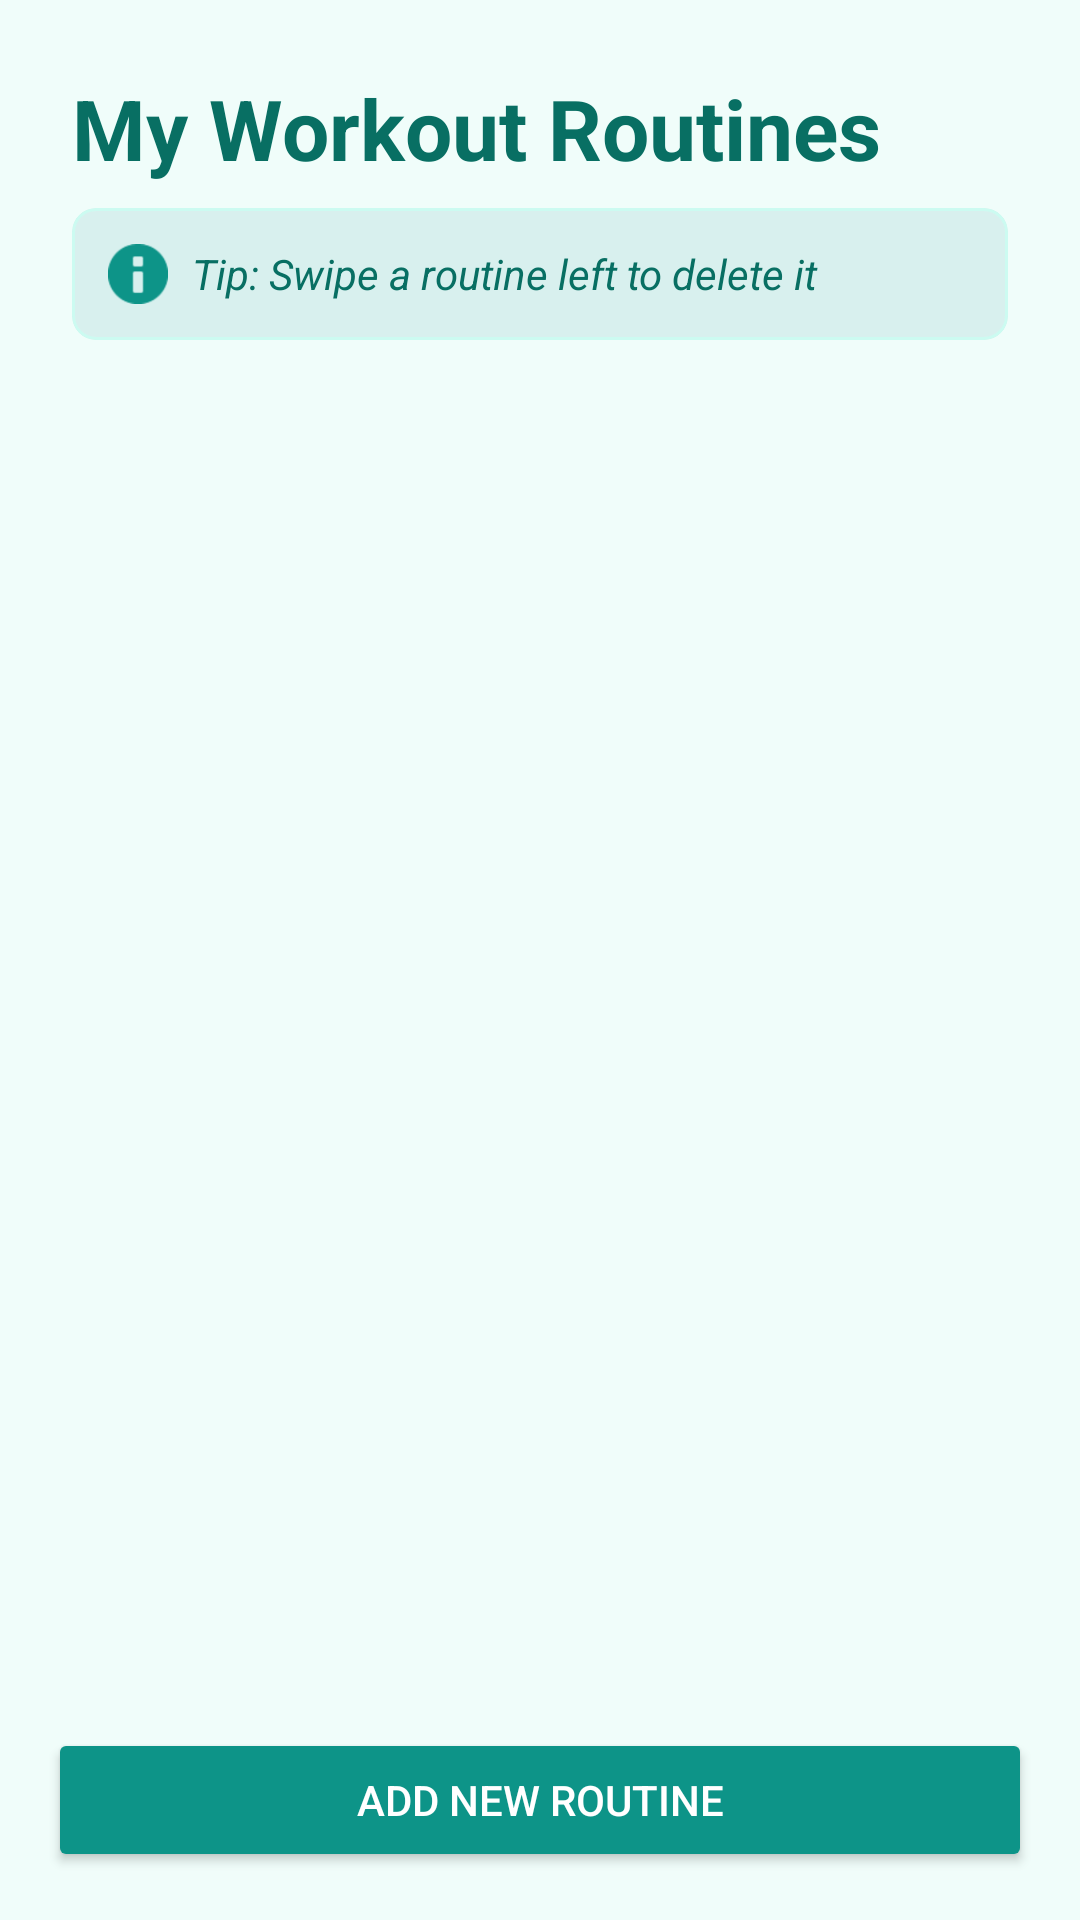

Icon bounding boxes for this 1080px x 1920px phone screenshot, format (x1, y1, x2, y2):
info: (108, 244, 168, 304)
